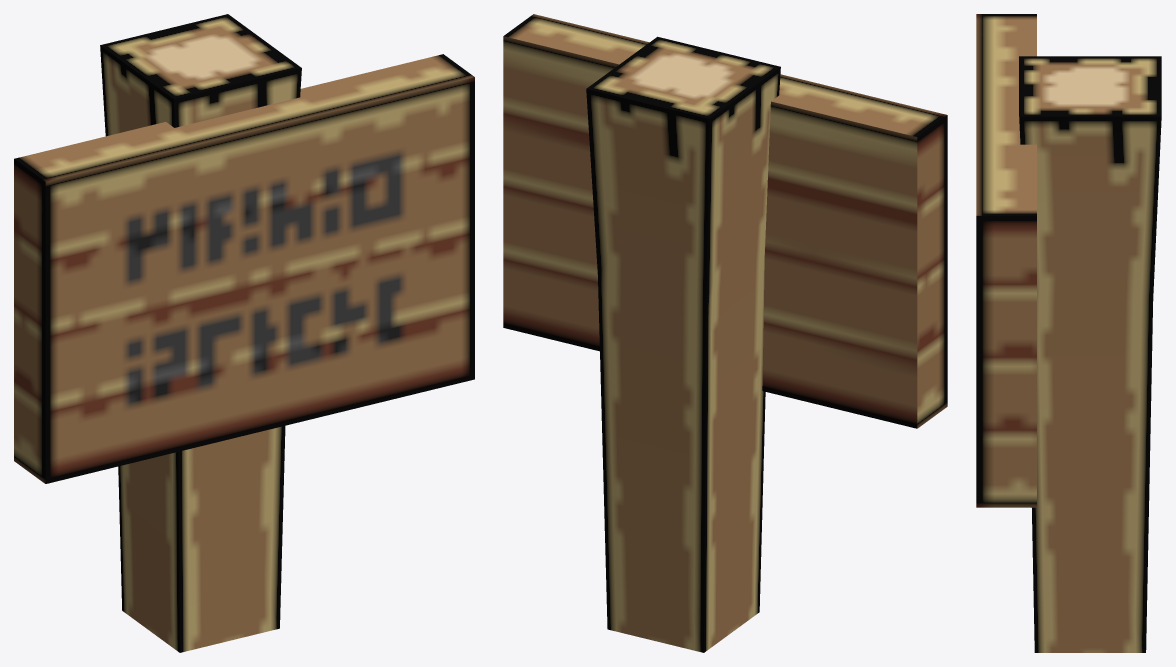
File: deco_cathedral_signA.FBX
3 views of the same model, side by side, from view 1: azimuth 30°, elevation 25°; view 2: azimuth 150°, elevation 25°; view 3: azimuth 270°, elevation 25° (orthographic). The views are drawn at different scales.
Parts seen in each view (by area): view 1: deco_cathedral_signA; view 2: deco_cathedral_signA; view 3: deco_cathedral_signA.
Part boxes in pixels (x1,y1,x2,y2): deco_cathedral_signA: (14,14,474,652); deco_cathedral_signA: (503,14,947,652); deco_cathedral_signA: (976,14,1161,652).
Bounding box in the file's own units: 2.07 × 2.59 × 0.8023.
1 material, 1 textured.
